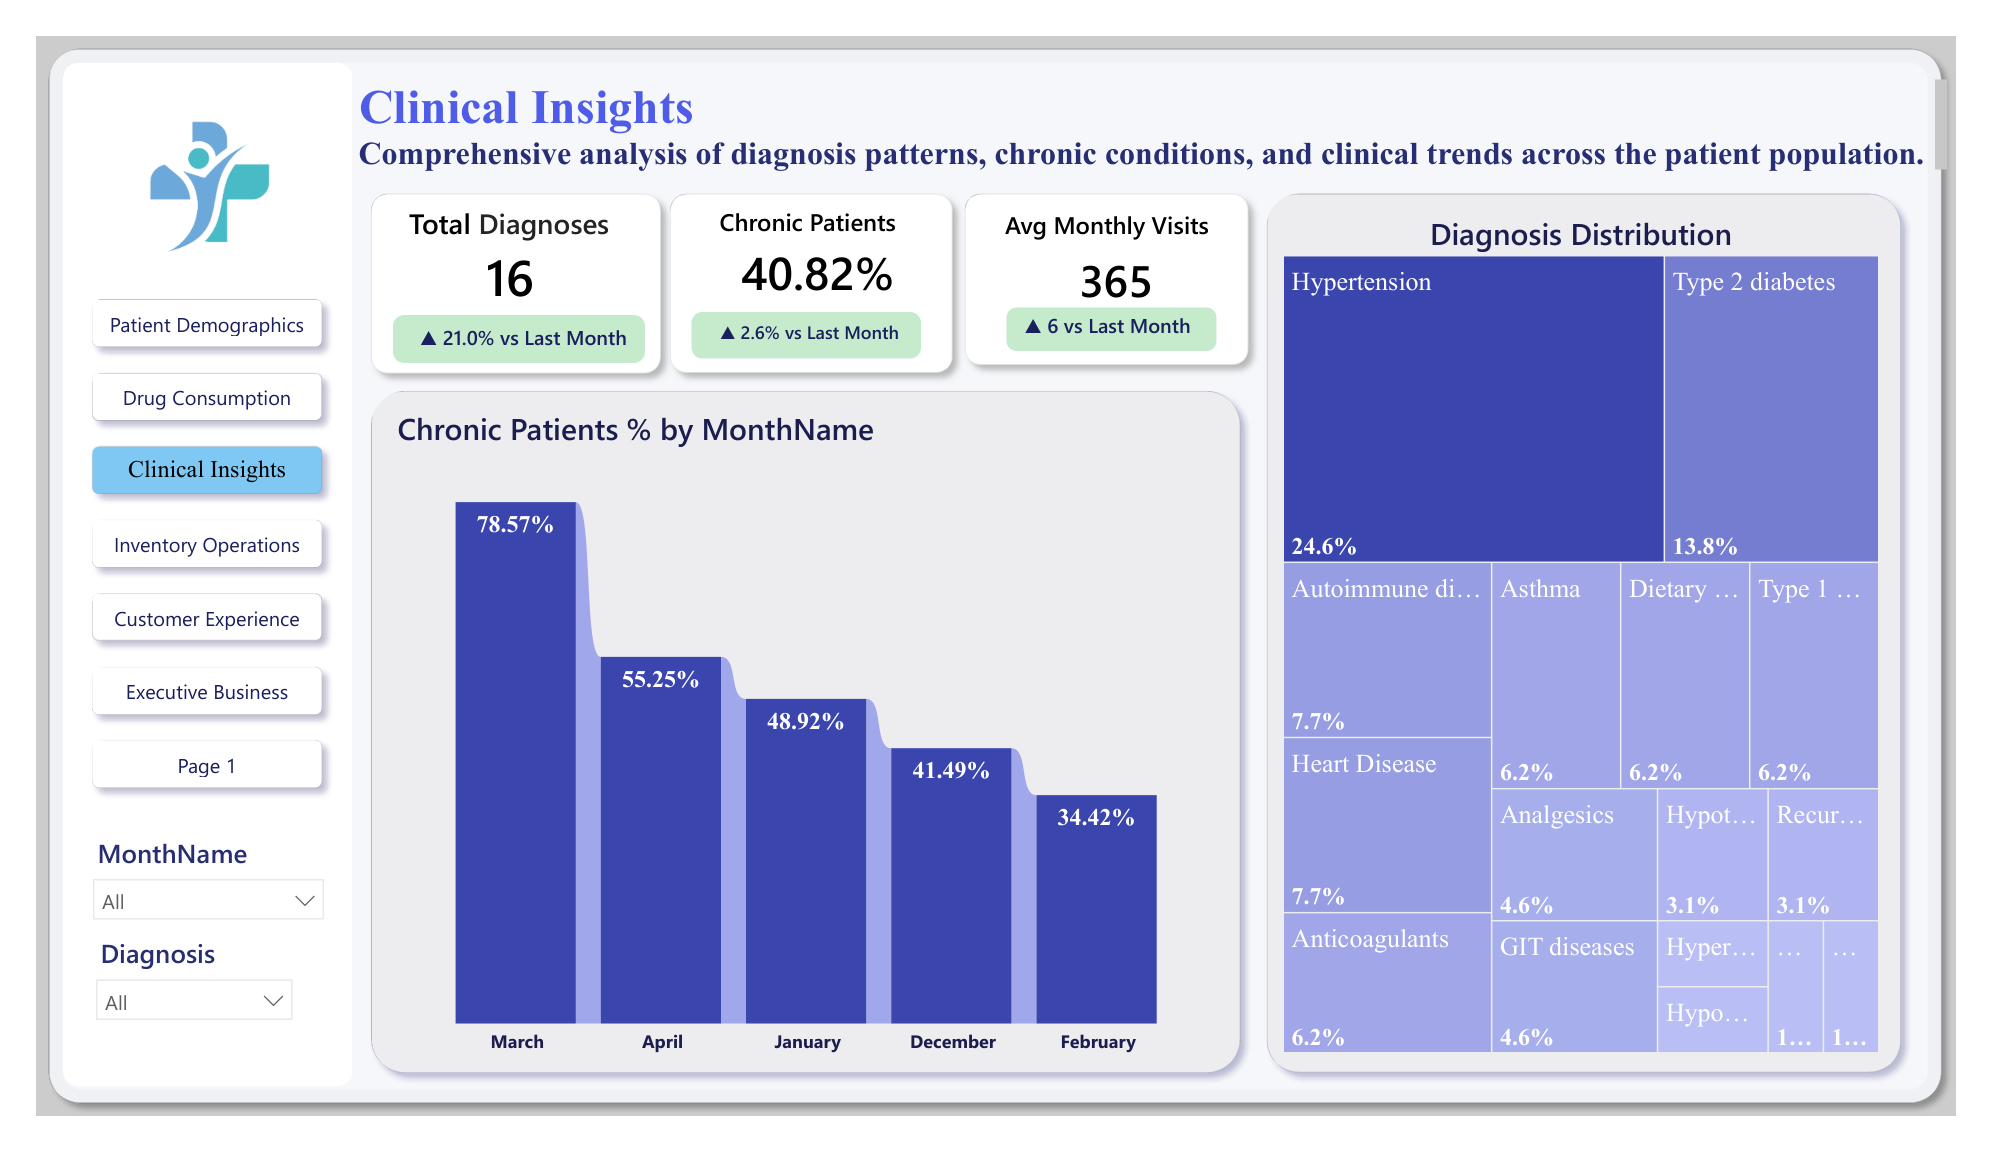

The page's visual inventory and layout, read from the dashboard file:
{"tool":"powerbi","page":{"name":"Clinical Insights","canvas":[1280,720],"ordinal":2},"visuals":[{"type":"shape","box":[0,0,1279.3,719.9],"z":0},{"type":"shape","box":[215.4,96.9,210,136.7],"z":0,"group":"g3"},{"type":"shape","box":[610.9,96.9,206.4,131.3],"z":0,"group":"g5"},{"type":"shape","box":[414,97,206,135.9],"z":0,"group":"g4"},{"type":"shape","box":[646,179.2,142,31],"z":0,"group":"g1"},{"type":"shape","box":[435.3,183.6,155.4,32.4],"z":0,"group":"g2"},{"type":"cardVisual","title":"Total Patients","fields":{"Data":["_MeasureTable.Total Diagnoses"]},"box":[257.4,129.9,118,60],"z":500,"group":"g3"},{"type":"shape","box":[18.3,18.3,192.6,681.7],"z":1000},{"type":"cardVisual","title":"Total Patients","fields":{"Data":["_MeasureTable.Chronic Patients %"]},"box":[463.1,128.8,115.5,53.6],"z":1000,"group":"g4"},{"type":"cardVisual","title":"Total Patients","fields":{"Data":["_MeasureTable.Avg Monthly Visits"]},"box":[662.2,134.5,115.5,57.9],"z":1000,"group":"g5"},{"type":"cardVisual","fields":{"Data":["_MeasureTable.Visits Indicator"]},"box":[630,152.4,181.8,87.2],"z":1000,"group":"g1"},{"type":"cardVisual","fields":{"Data":["_MeasureTable.Chronic Indicator"]},"box":[426.7,158.3,180,77.7],"z":1000,"group":"g2"},{"type":"shape","box":[237.2,185.4,170.5,34.2],"z":1000,"group":"g8"},{"type":"image","box":[38.2,36.7,151.3,114.6],"z":2000},{"type":"group","id":"g1","title":"Group 1","box":[630,152.4,181.8,87.2],"z":2000,"group":"g5"},{"type":"group","id":"g2","title":"Group 1","box":[426.7,158.3,180,77.7],"z":2000,"group":"g4"},{"type":"cardVisual","fields":{"Data":["_MeasureTable.Growth Indicator"]},"box":[227.4,161.3,207.3,64.5],"z":2000,"group":"g8"},{"type":"textbox","box":[210.5,23.7,1068.7,71.1],"z":3000},{"type":"textbox","box":[429.7,108.4,169.5,31.9],"z":3000,"group":"g4"},{"type":"textbox","box":[626.1,109.9,176.1,37.5],"z":3000,"group":"g5"},{"type":"slicer","fields":{"Values":["DimDate.MonthName"]},"box":[27.5,527.3,174.2,67.3],"z":4000},{"type":"slicer","fields":{"Values":["Diagnosis.Diagnosis_Name"]},"box":[29.7,594.3,151.5,93.6],"z":5000},{"type":"group","id":"g3","title":"Card_1","box":[215.4,96.9,218.5,136.9],"z":6000},{"type":"group","id":"g4","title":"Card_3","box":[414,97,206,139],"z":7000},{"type":"group","id":"g5","title":"Card_4","box":[610.9,96.9,206.4,142.7],"z":8000},{"type":"group","id":"g6","title":"Group 2","box":[215.4,227.7,596.9,472.3],"z":9000},{"type":"group","id":"g7","title":"Group 2","box":[812.3,96.9,440,603.1],"z":10000},{"type":"shape","box":[812.3,96.9,440,603.1],"z":11000,"group":"g7"},{"type":"pageNavigator","box":[29,166.6,169.7,348.5],"z":11000},{"type":"shape","box":[215.4,227.7,596.9,472.3],"z":11000,"group":"g6"},{"type":"columnChart","fields":{"Category":["DimDate.MonthName"],"Y":["_MeasureTable.Chronic Patients %"]},"box":[236.7,246.7,556.7,441.7],"z":11500,"group":"g6"},{"type":"group","id":"g8","title":"Group 4","box":[227.4,161.3,207.3,64.5],"z":12502,"group":"g3"},{"type":"treemap","title":"Diagnosis Distribution","fields":{"Group":["Drug.Diagnosis_Name"],"Values":["CountNonNull(Drug.Diagnosis_Name)"]},"box":[827,117,406,565],"z":13000,"group":"g7"},{"type":"textbox","box":[241.4,106.9,149,36],"z":13501,"group":"g3"}]}

Visuals, with their boxes on the page's 1280x720 design canvas (x1, y1, x2, y2). These are canvas units, not pixel positions in the 1992x1152 screenshot, which may show the page scaled, cropped or inside an application window:
shape: locate(0, 0, 1279, 720)
shape: locate(215, 97, 425, 234)
shape: locate(611, 97, 817, 228)
shape: locate(414, 97, 620, 233)
shape: locate(646, 179, 788, 210)
shape: locate(435, 184, 591, 216)
"Total Patients" cardVisual: locate(257, 130, 375, 190)
shape: locate(18, 18, 211, 700)
"Total Patients" cardVisual: locate(463, 129, 579, 182)
"Total Patients" cardVisual: locate(662, 134, 778, 192)
cardVisual - _MeasureTable.Visits Indicator: locate(630, 152, 812, 240)
cardVisual - _MeasureTable.Chronic Indicator: locate(427, 158, 607, 236)
shape: locate(237, 185, 408, 220)
image: locate(38, 37, 190, 151)
"Group 1" group: locate(630, 152, 812, 240)
"Group 1" group: locate(427, 158, 607, 236)
cardVisual - _MeasureTable.Growth Indicator: locate(227, 161, 435, 226)
textbox: locate(210, 24, 1279, 95)
textbox: locate(430, 108, 599, 140)
textbox: locate(626, 110, 802, 147)
slicer - DimDate.MonthName: locate(28, 527, 202, 595)
slicer - Diagnosis.Diagnosis_Name: locate(30, 594, 181, 688)
"Card_1" group: locate(215, 97, 434, 234)
"Card_3" group: locate(414, 97, 620, 236)
"Card_4" group: locate(611, 97, 817, 240)
"Group 2" group: locate(215, 228, 812, 700)
"Group 2" group: locate(812, 97, 1252, 700)
shape: locate(812, 97, 1252, 700)
pageNavigator: locate(29, 167, 199, 515)
shape: locate(215, 228, 812, 700)
columnChart - DimDate.MonthName x _MeasureTable.Chronic Patients %: locate(237, 247, 793, 688)
"Group 4" group: locate(227, 161, 435, 226)
"Diagnosis Distribution" treemap: locate(827, 117, 1233, 682)
textbox: locate(241, 107, 390, 143)
